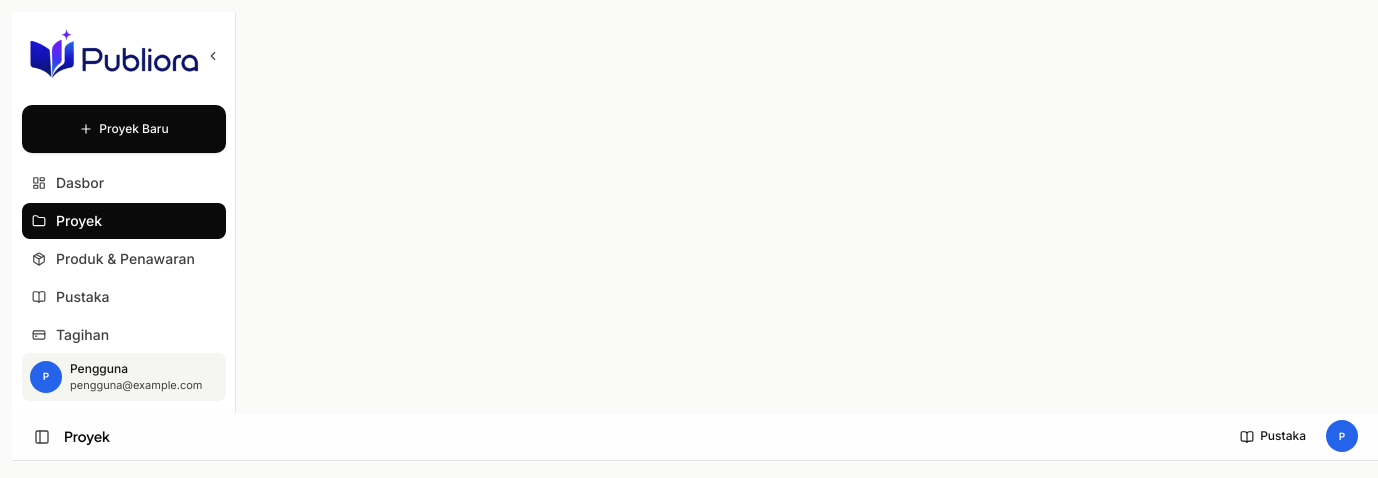
Scenario: Sidebar › removes collapsed desktop navigation from focus and accessibility while keeping expand available
Click the button named "Ciutkan panel samping" at (213, 56), box [202,45,224,67]
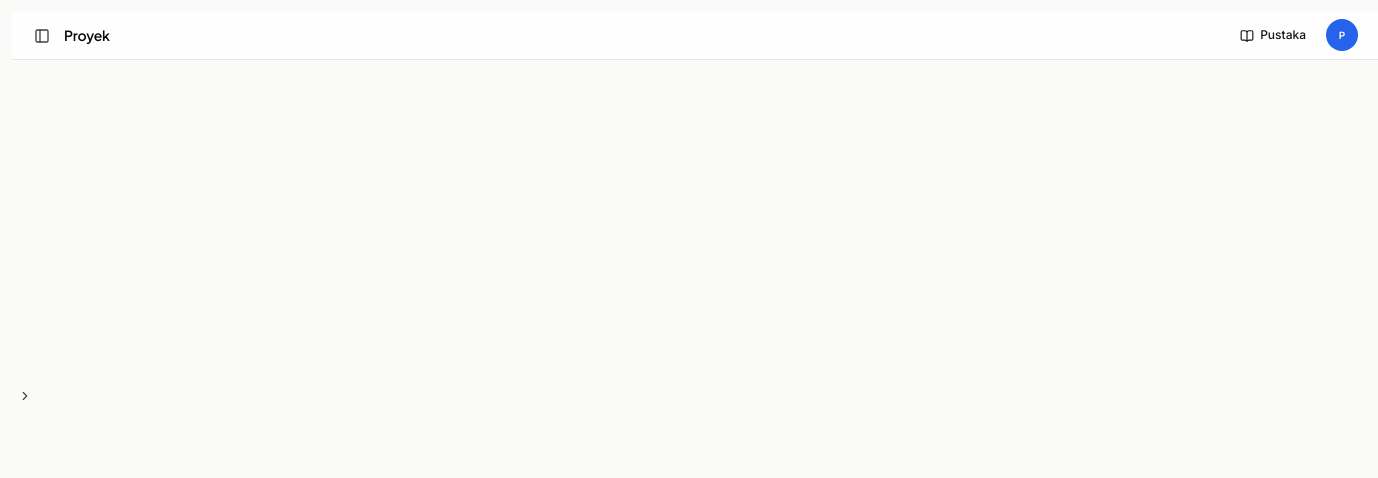
Expected: the button "Proyek Baru" is gone
Expected: the button named "Bentangkan panel samping" is shown, [12,383,38,409]
